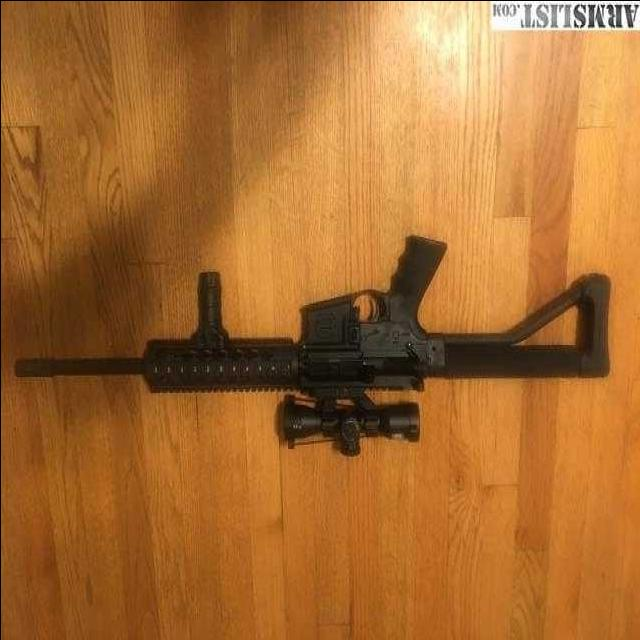heavyweapon: (10, 194, 616, 480)
